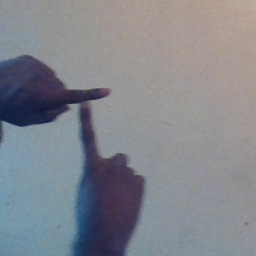T: (32, 65, 132, 174)
